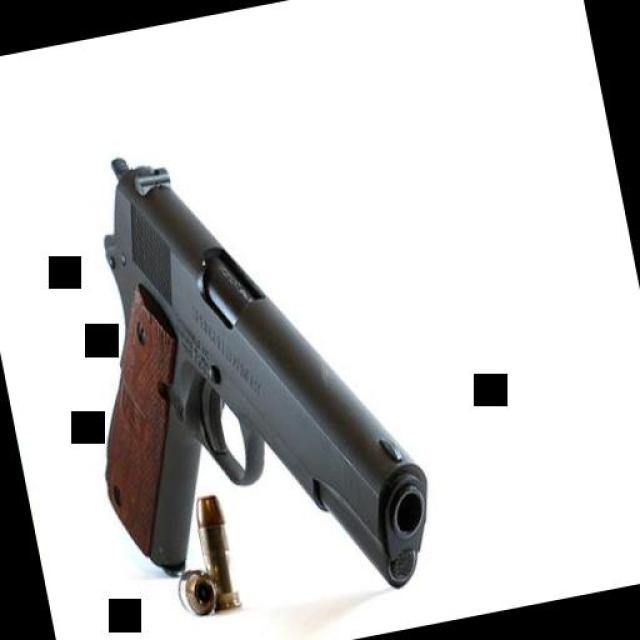gun: (42, 112, 442, 638)
